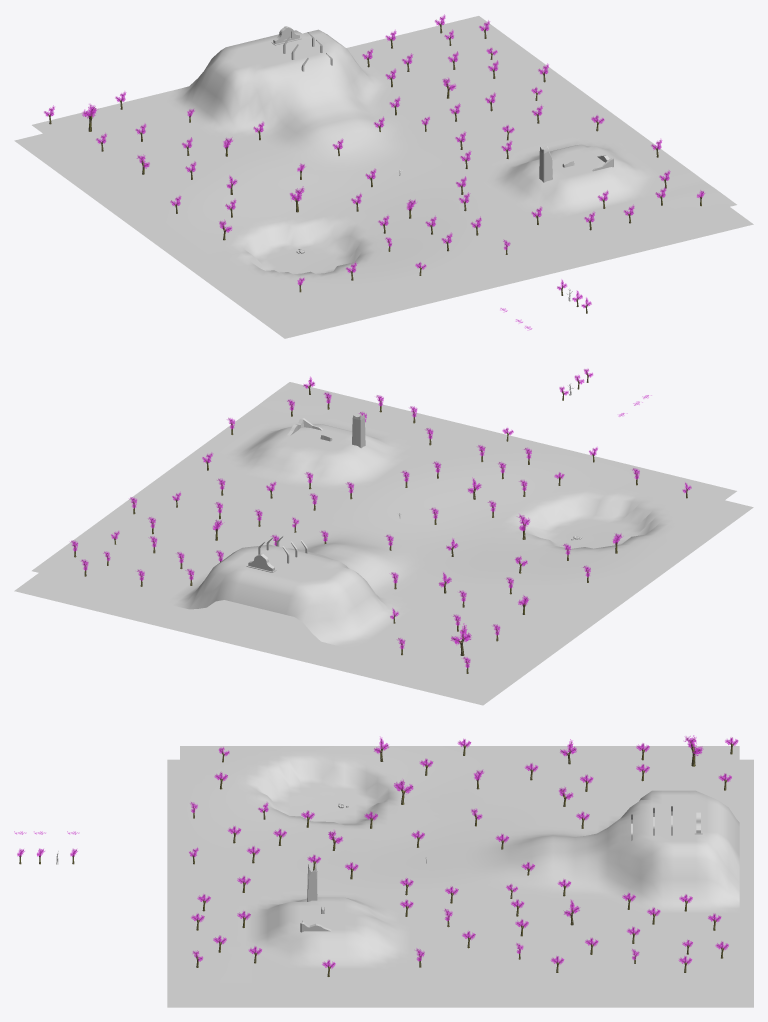
The model's file is Dream.glb.
The picture shows the model from 3 angles, top to bottom: view 1: azimuth 30°, elevation 25°; view 2: azimuth 150°, elevation 25°; view 3: azimuth 270°, elevation 25°; orthographic projection. The views are drawn at different scales.
Parts seen in each view (by area): view 1: Plane, Ground; view 2: Plane, Ground; view 3: Plane, Ground.
Boxes of the visible parts, x1,y1,x2,y2 form: Plane: (32,16,736,313); Ground: (14,133,753,338); Plane: (32,382,736,680); Ground: (14,500,753,705); Plane: (180,746,739,982); Ground: (167,759,753,1007).
Size of what is drawn, in the model's own units: 147 by 22.04 by 186.
8 materials, 6 textured.
